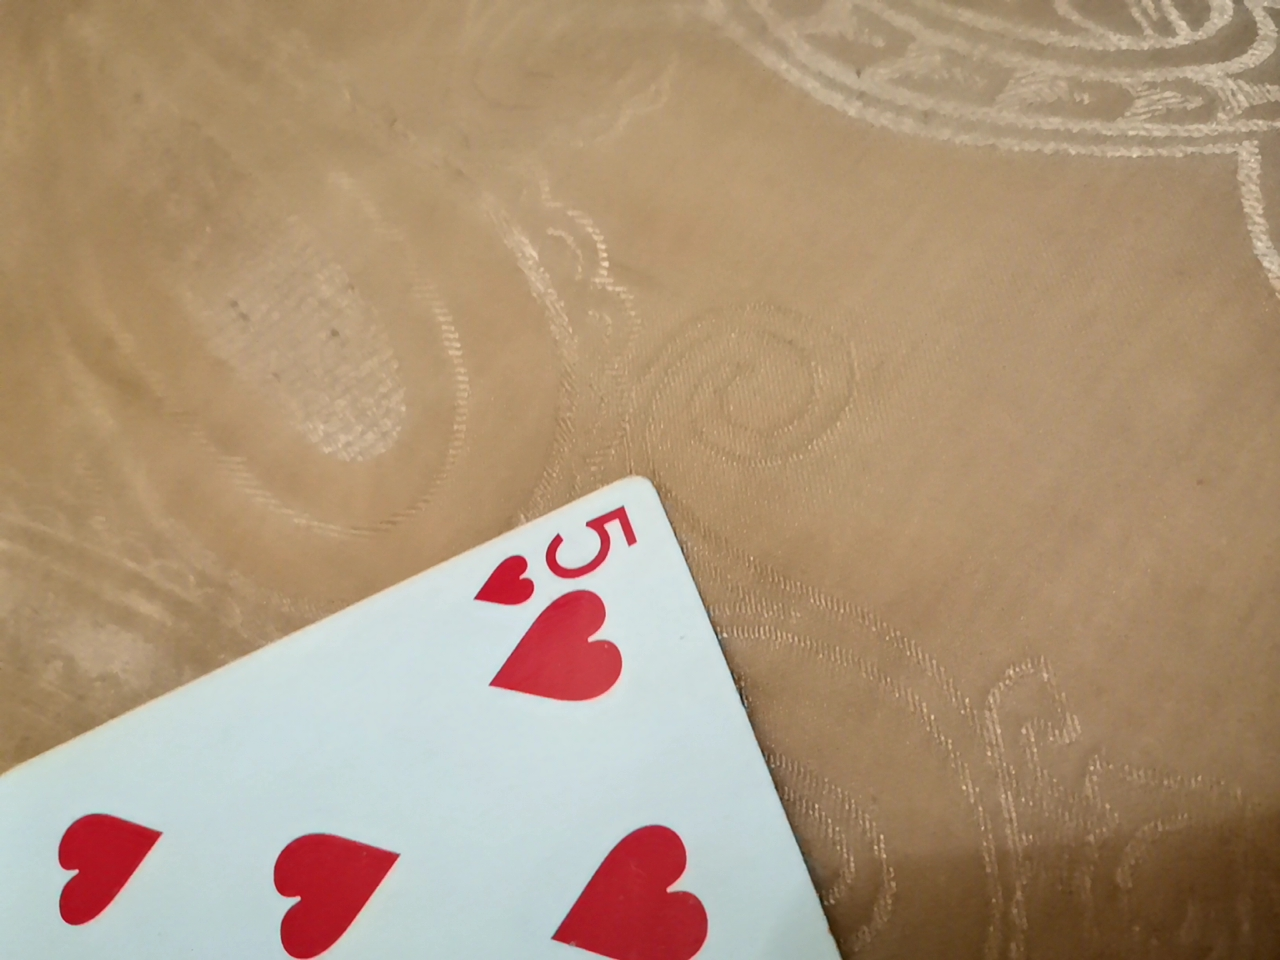hx 5: (6, 471, 891, 959)
